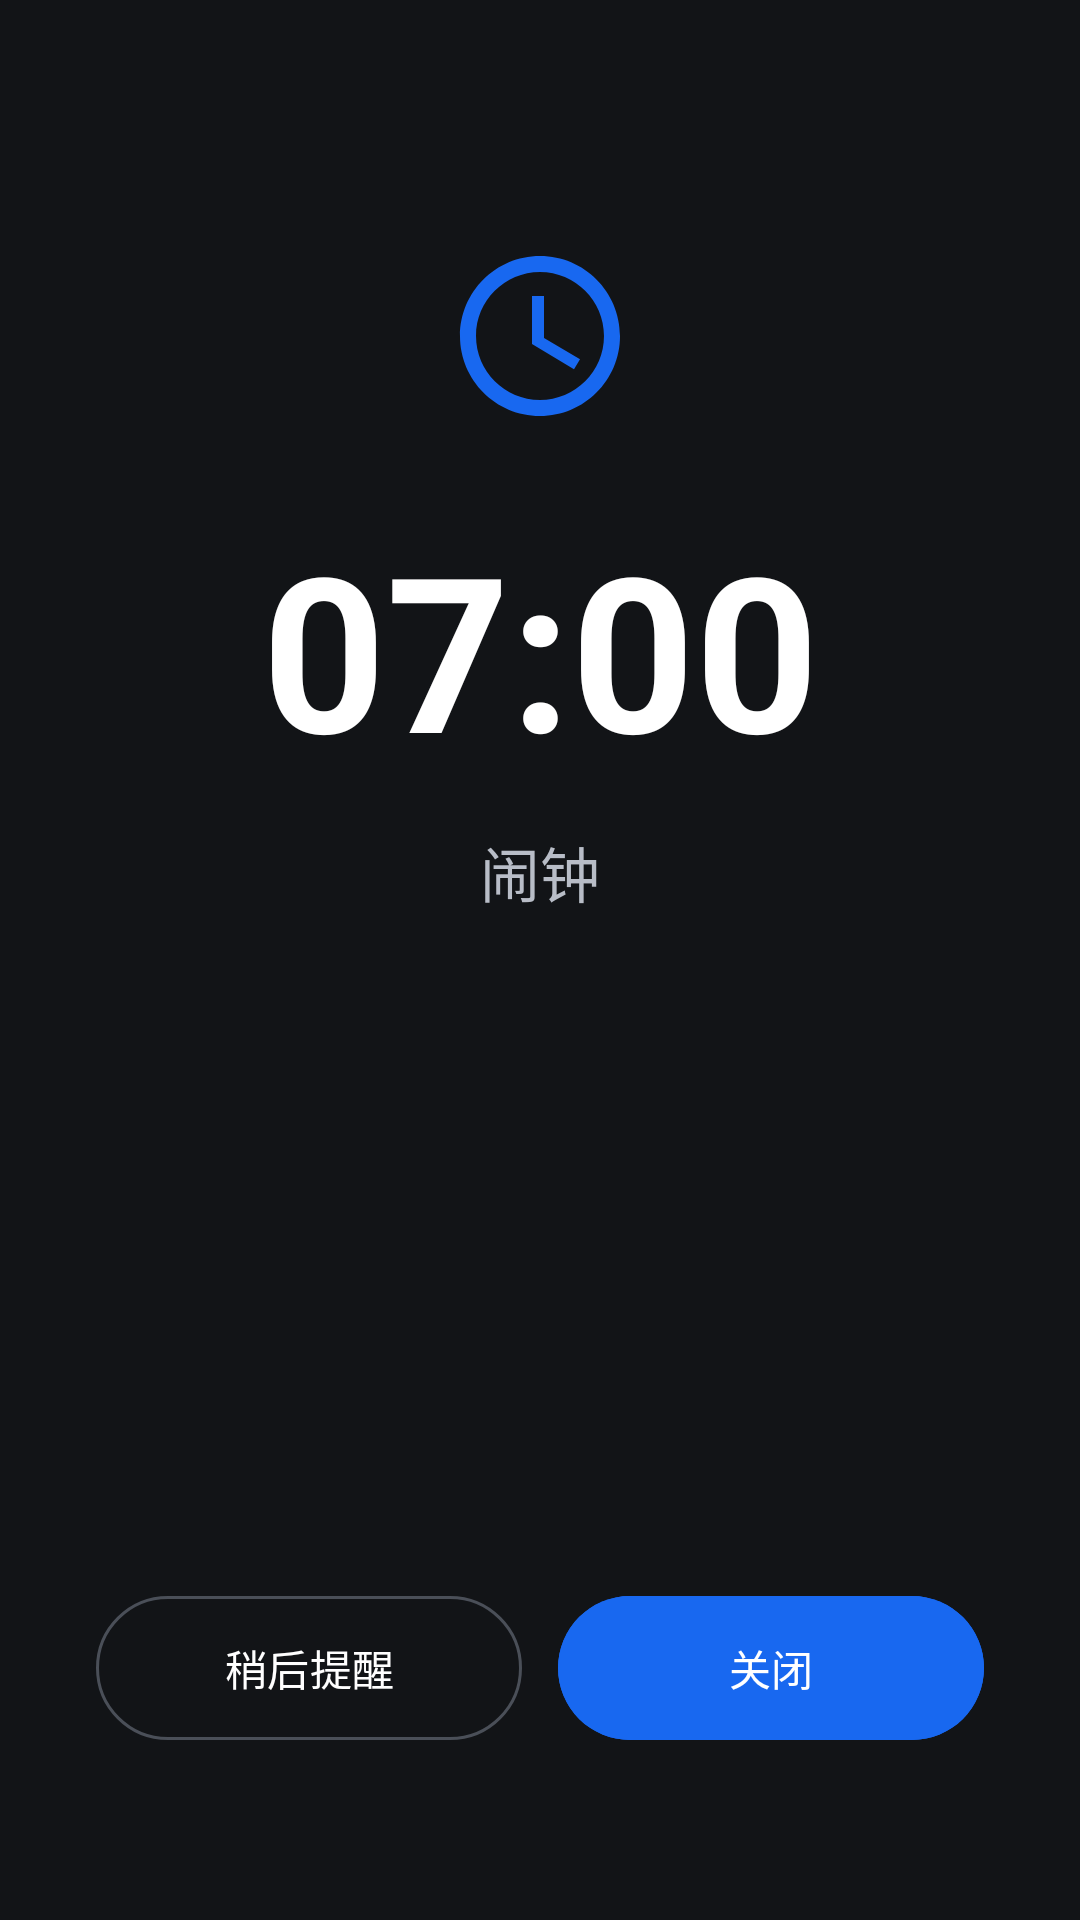

Icons on this 1080×1920 Android screen, each with its box as bbox=(x1, y1, x2, y2):
clock: bbox=(460, 256, 620, 416)
